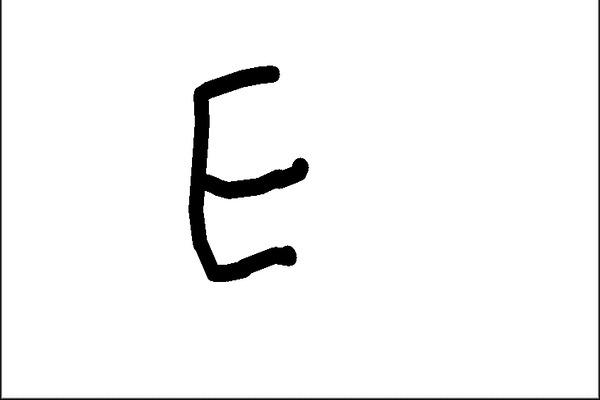E: (177, 60, 313, 285)
